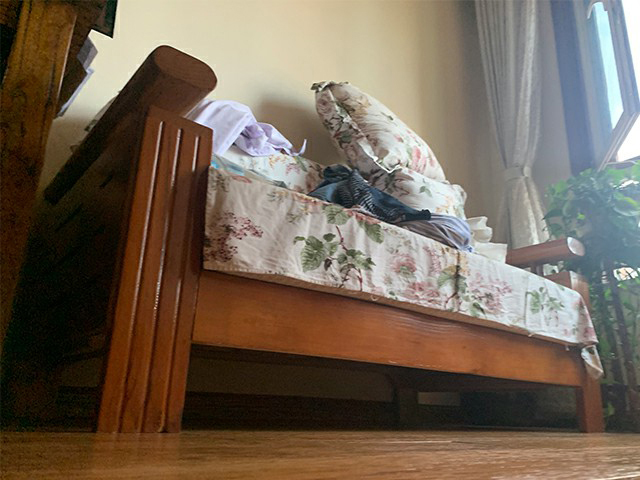curtain: (471, 1, 545, 275)
sofa: (11, 43, 607, 436)
